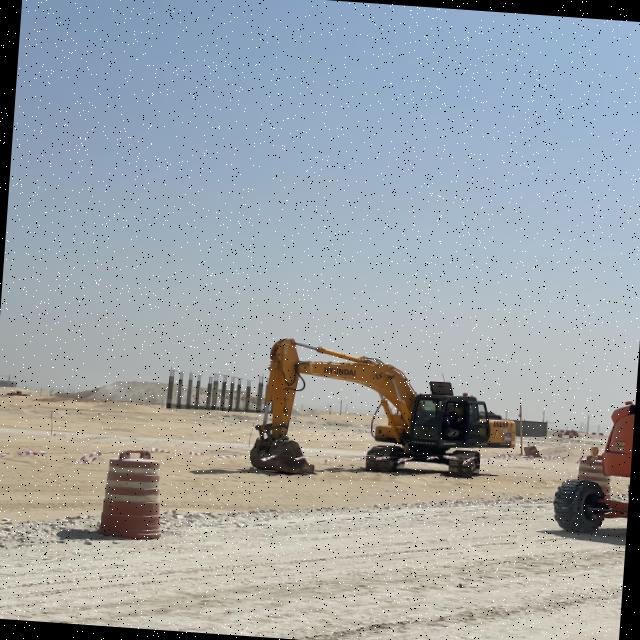Excavator: (241, 323, 525, 513)
